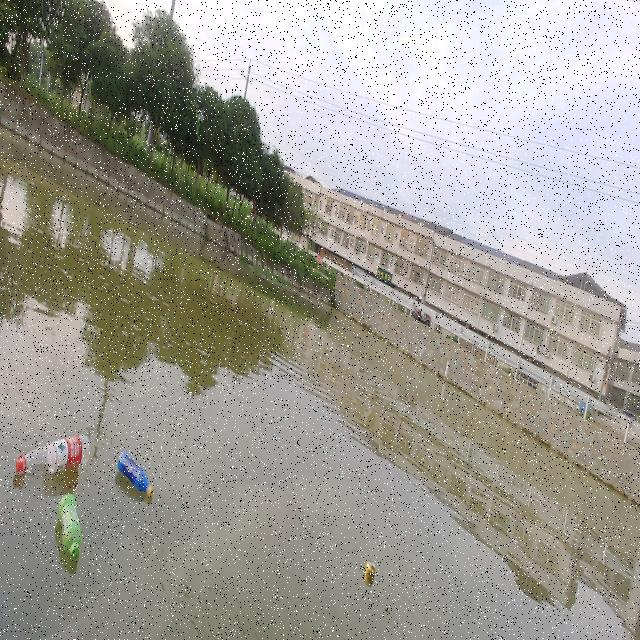Bottle: (13, 430, 95, 479), (116, 443, 155, 503), (56, 488, 84, 562)
Can: (362, 551, 381, 587)
